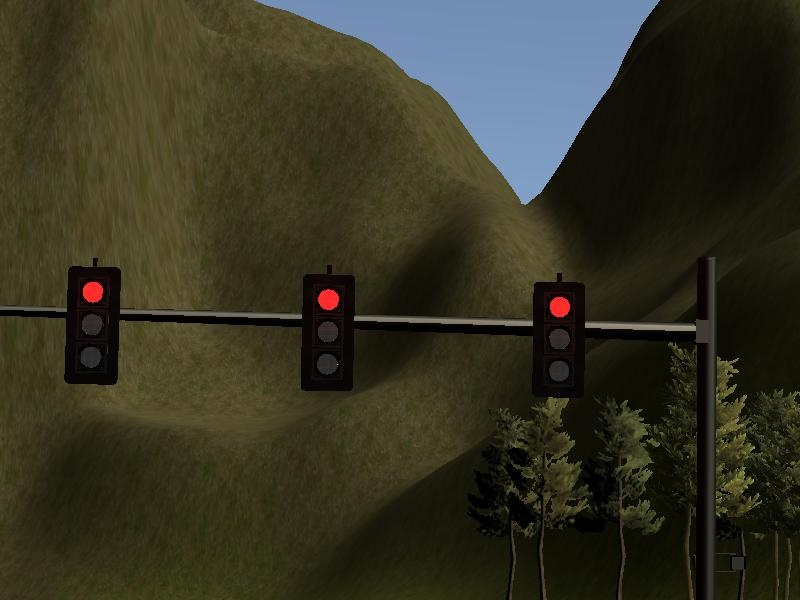RED: (65, 266, 119, 385), (533, 281, 585, 394), (300, 274, 352, 387)
